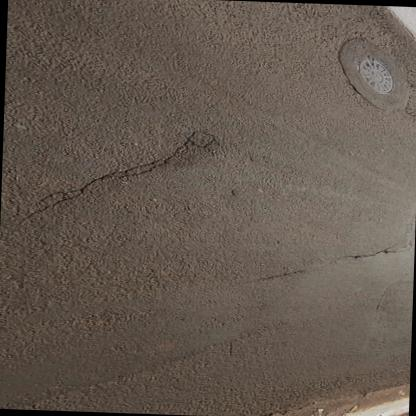manholes: (340, 54, 406, 98)
